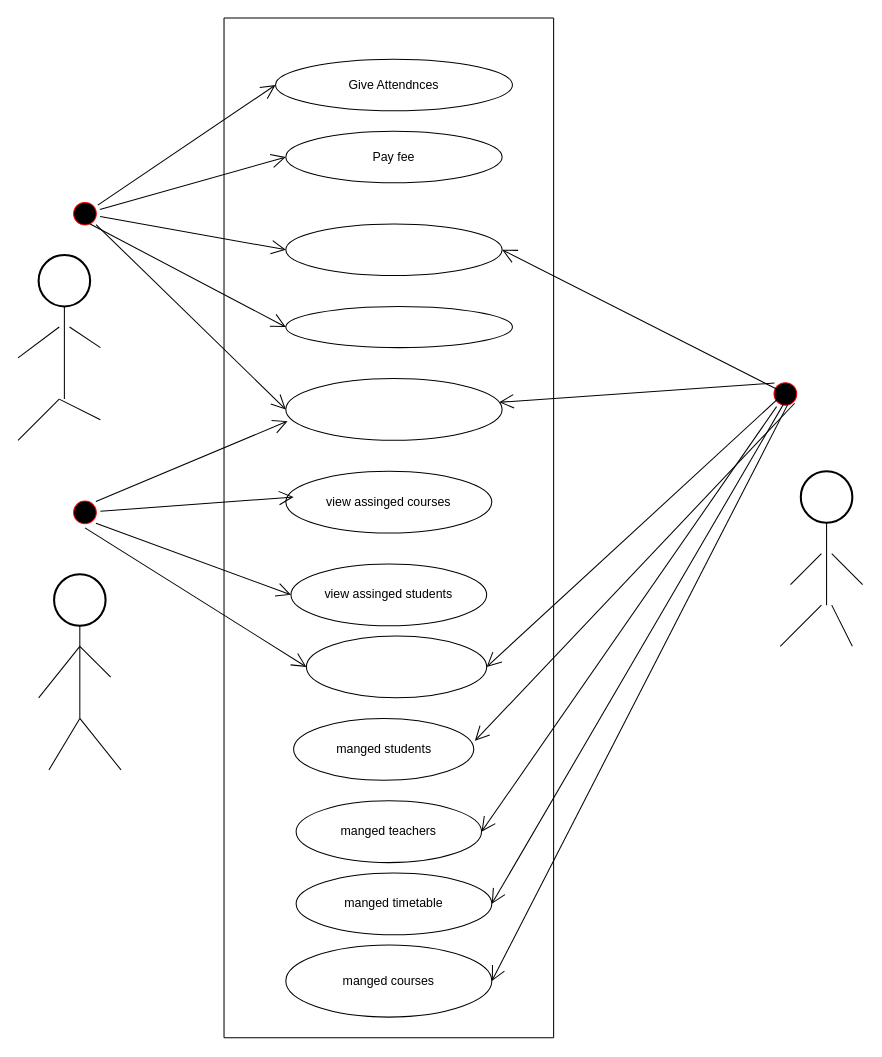
Image size: 882x1057. Some labels were removed from this diagram. Here are the shapes that lost their labels. From the top down, the box of each, then its label:
(285, 223, 502, 276): view Timetable
(285, 305, 512, 348): view assinged teachers
(285, 377, 502, 440): login
(305, 635, 487, 698): view attends
